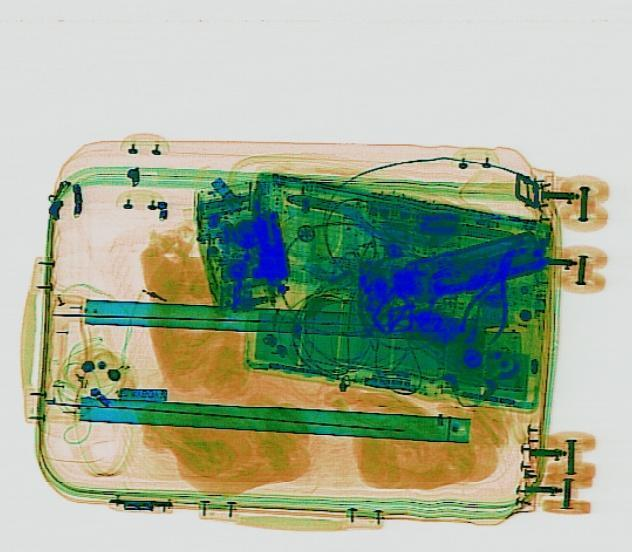Pliers: (452, 246, 534, 347)
